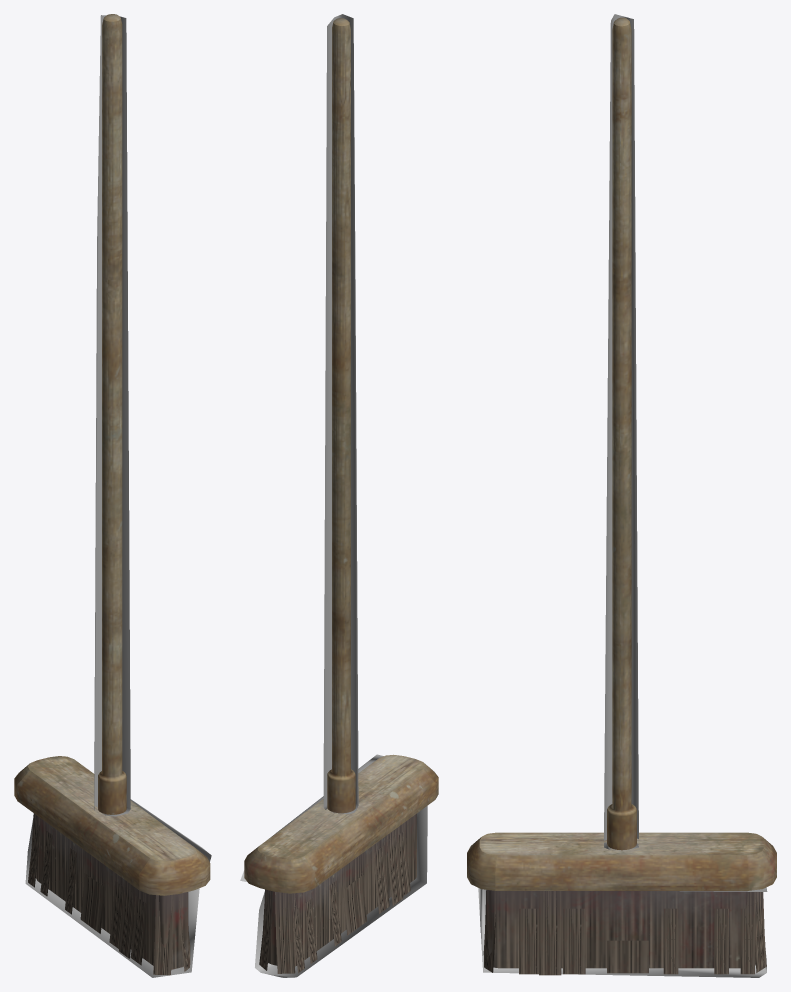
Rendered from SM_Big_Brush.gltf.
3 views of the same model, side by side, from view 1: azimuth 30°, elevation 25°; view 2: azimuth 150°, elevation 25°; view 3: azimuth 270°, elevation 25° (orthographic). The views are drawn at different scales.
Parts seen in each view (by area): view 1: SM_Big_Brush_LOD0, SM_Big_Brush_ConvexHulls; view 2: SM_Big_Brush_LOD0, SM_Big_Brush_ConvexHulls; view 3: SM_Big_Brush_LOD0, SM_Big_Brush_ConvexHulls.
Boxes of the visible parts, box(x1,y1,x2,y2) form: SM_Big_Brush_LOD0: box(14, 14, 210, 975); SM_Big_Brush_ConvexHulls: box(25, 15, 211, 977); SM_Big_Brush_LOD0: box(244, 18, 438, 973); SM_Big_Brush_ConvexHulls: box(240, 14, 427, 977); SM_Big_Brush_LOD0: box(467, 17, 776, 975); SM_Big_Brush_ConvexHulls: box(478, 14, 767, 977).
Size of what is drawn, in the model's own units: 0.1524 by 1.89 by 0.558.
